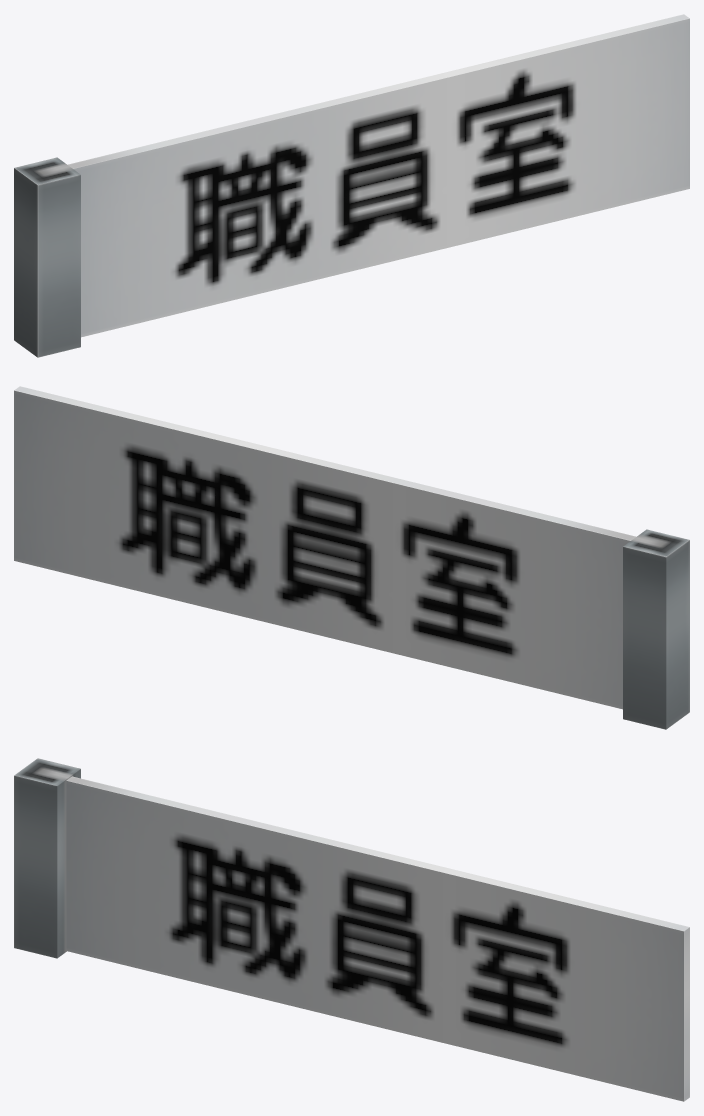
File: SHW_NamePlate_01_00_Teachers_room01.fbx
3 renders of one model, top to bottom at view 1: azimuth 30°, elevation 25°; view 2: azimuth 150°, elevation 25°; view 3: azimuth 330°, elevation 25°, orthographic.
Parts seen in each view (by area): view 1: shw_nameplate_01_00_teachers_room01; view 2: shw_nameplate_01_00_teachers_room01; view 3: shw_nameplate_01_00_teachers_room01.
Boxes of the visible parts, <box> form: shw_nameplate_01_00_teachers_room01: <box>14,14,689,357</box>; shw_nameplate_01_00_teachers_room01: <box>14,386,689,729</box>; shw_nameplate_01_00_teachers_room01: <box>14,758,689,1101</box>.
Size of the model in its own units: 32.1 by 8 by 2.
